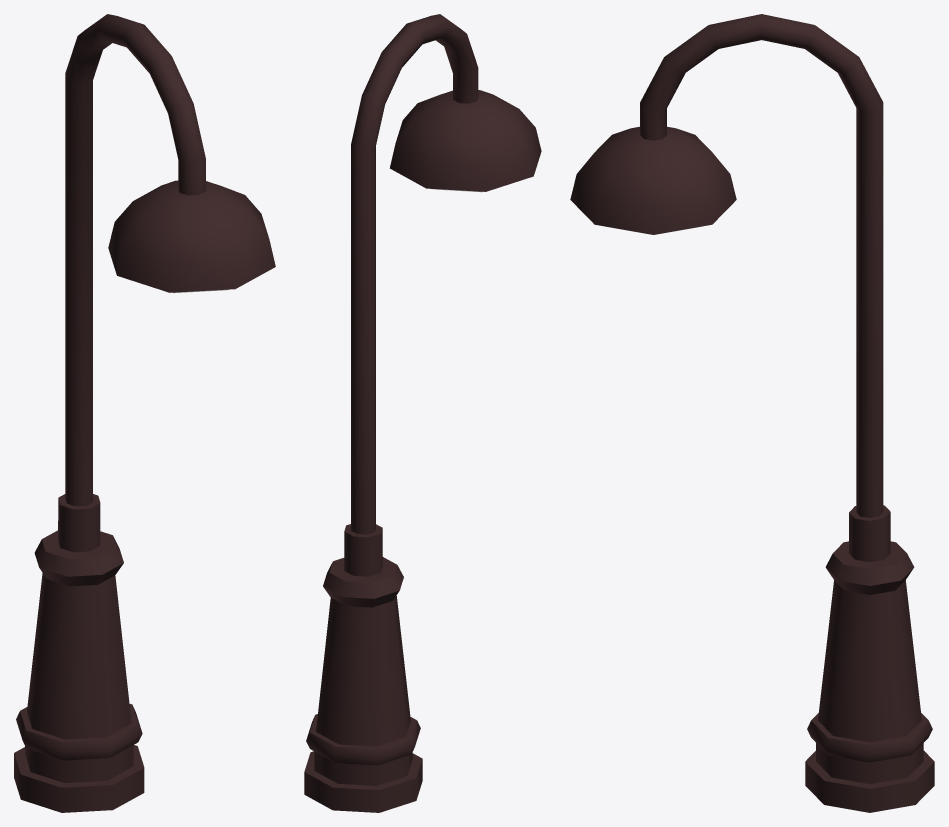
File: streetlamp.fbx
3 views of the same model, side by side, from view 1: azimuth 30°, elevation 25°; view 2: azimuth 150°, elevation 25°; view 3: azimuth 270°, elevation 25° (orthographic). The views are drawn at different scales.
Visible parts, largest first — view 1: Sphere.001; view 2: Sphere.001; view 3: Sphere.001.
Part boxes in pixels (x1=…): Sphere.001: x1=14, y1=14, x2=275, y2=812; Sphere.001: x1=304, y1=14, x2=541, y2=812; Sphere.001: x1=570, y1=14, x2=934, y2=812.
Bounding box in the file's own units: 90 × 460 × 197.
